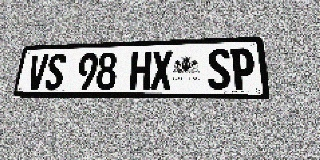8: (95, 52, 118, 90)
9: (76, 53, 99, 90)
H: (129, 51, 151, 90)
P: (230, 48, 256, 89)
S: (207, 49, 231, 89), (44, 54, 67, 90)
V: (26, 54, 49, 90)
X: (150, 50, 172, 90)
